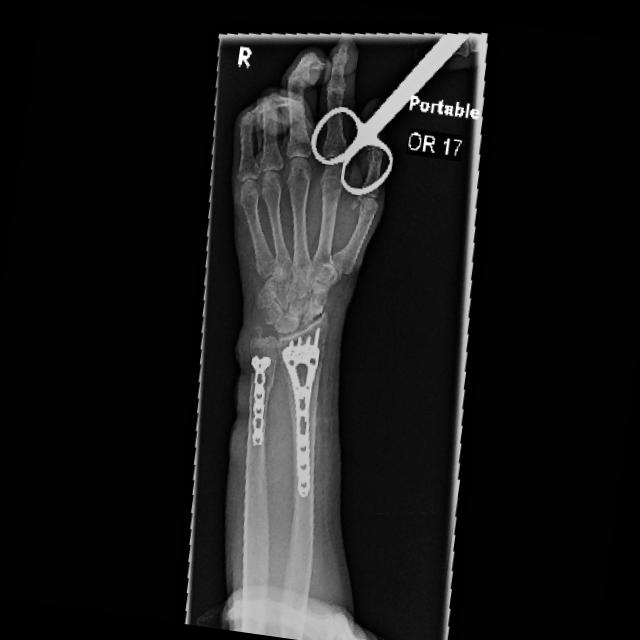fingers positive: (301, 319, 336, 389), (243, 345, 283, 405)
